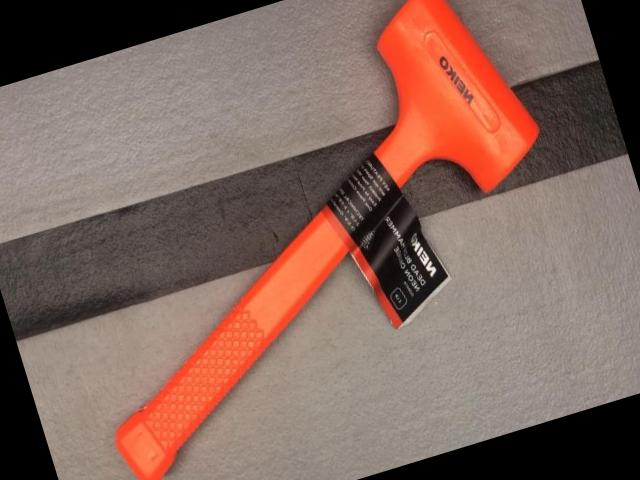hammer: (13, 0, 606, 480)
